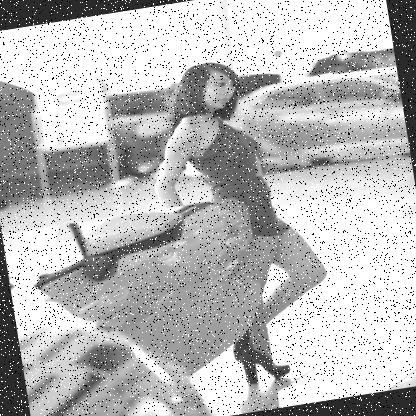Car: (1, 195, 281, 415), (218, 65, 410, 181)
